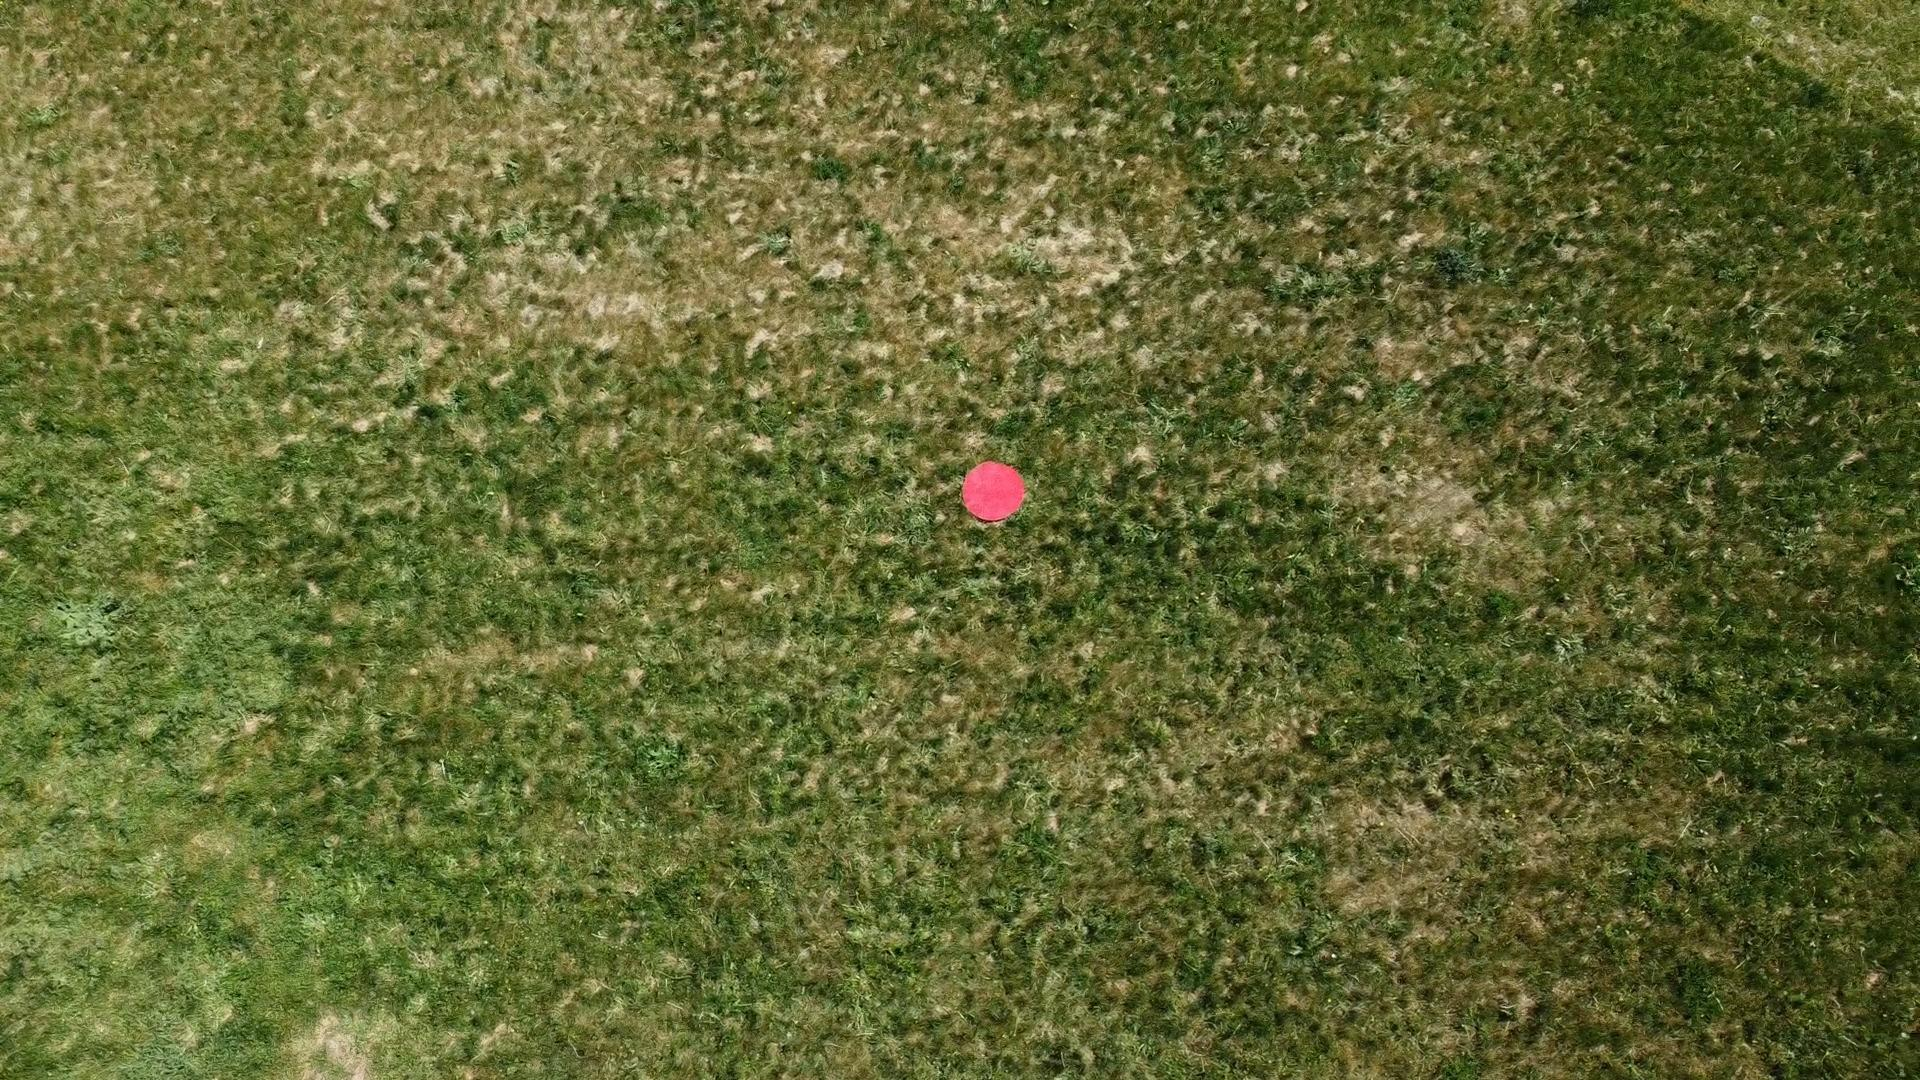Red: (959, 460, 1027, 522)
